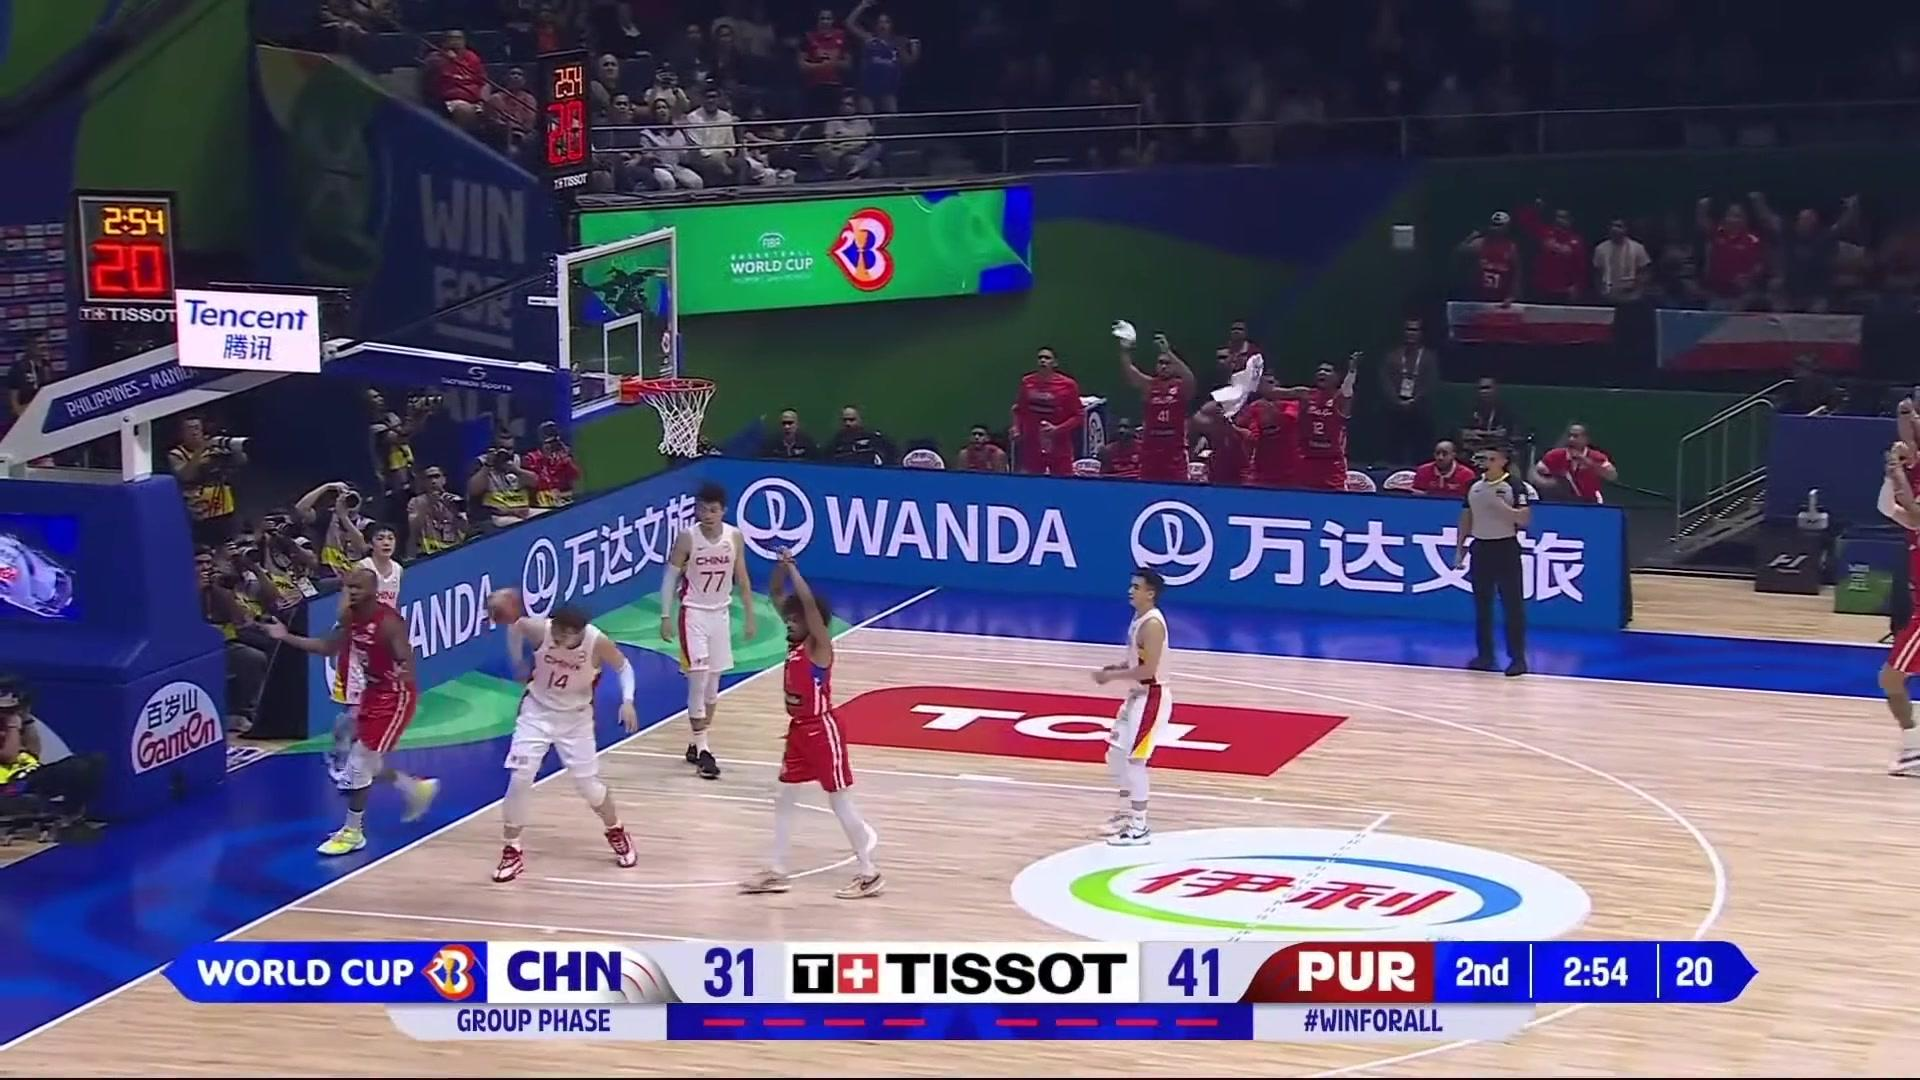no_foul: (311, 571, 632, 895)
